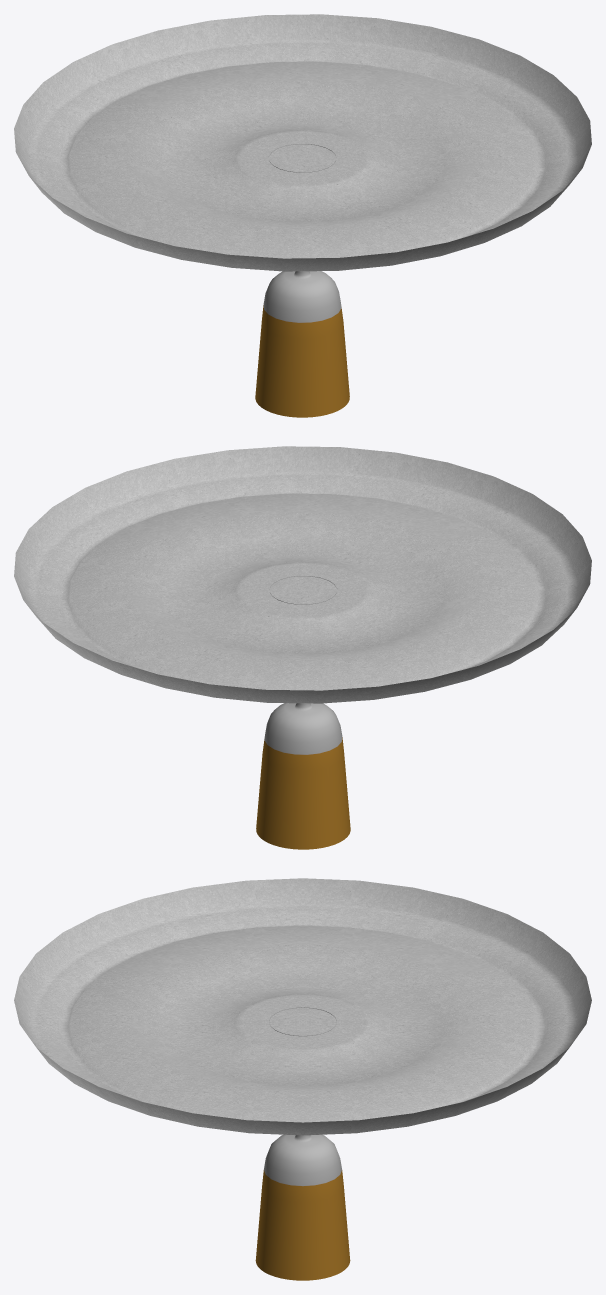
Rendered from Chandelier Lamp_Tri.fbx.
The picture shows the model from 3 angles, top to bottom: view 1: azimuth 30°, elevation 25°; view 2: azimuth 150°, elevation 25°; view 3: azimuth 270°, elevation 25°; orthographic projection.
Parts seen in each view (by area): view 1: Main_low, light_low; view 2: Main_low, light_low; view 3: Main_low, light_low.
Boxes of the visible parts, x1,y1,x2,y2 form: Main_low: (14, 14, 591, 271); light_low: (255, 271, 349, 417); Main_low: (14, 446, 591, 703); light_low: (256, 703, 350, 849); Main_low: (14, 878, 591, 1135); light_low: (255, 1134, 350, 1280).
Bounding box in the file's own units: 179 × 88.98 × 179.
Materials: 2 (1 with a texture image).
